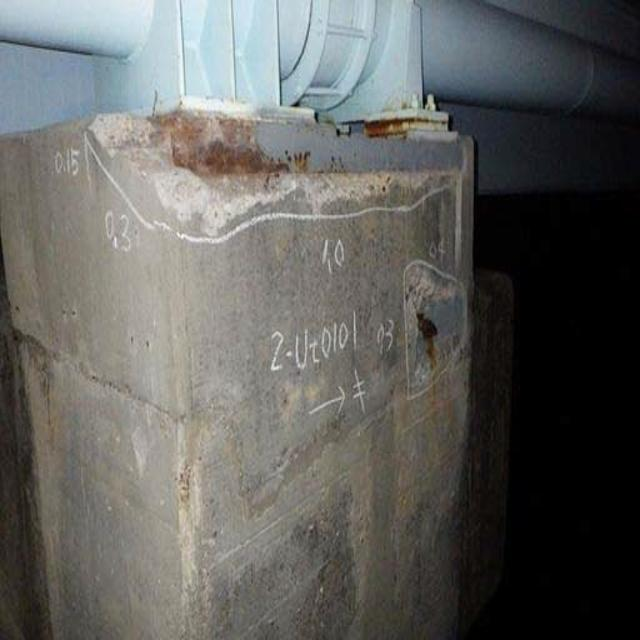spalling: (90, 106, 474, 257), (384, 276, 463, 383)
